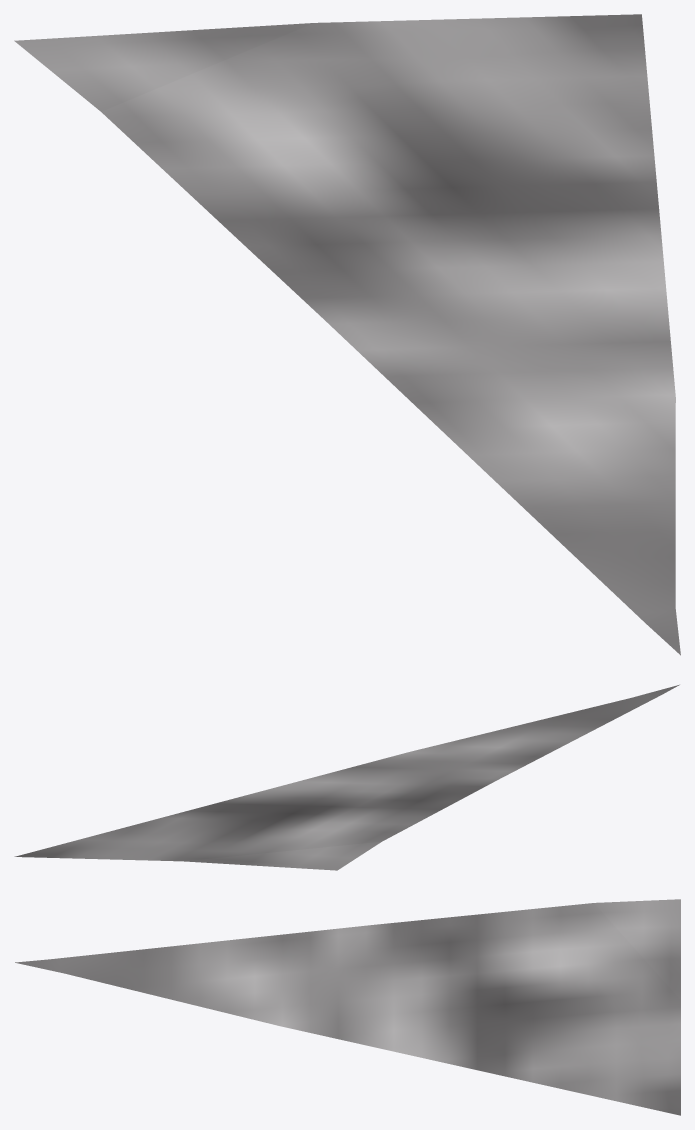
The picture shows the model from 3 angles, top to bottom: view 1: azimuth 30°, elevation 25°; view 2: azimuth 150°, elevation 25°; view 3: azimuth 270°, elevation 25°; orthographic projection. The views are drawn at different scales.
Bounding box in the file's own units: 0.0418 × 0.00806 × 0.0769.
1 material, 1 textured.
